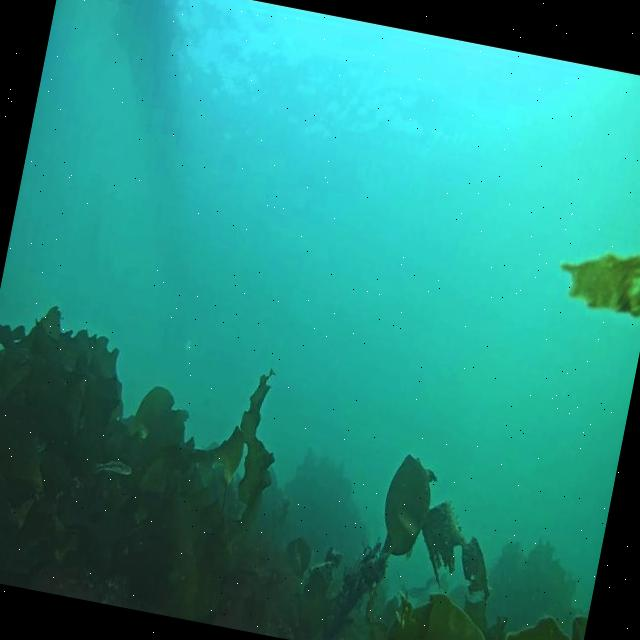fish: (94, 456, 136, 482)
